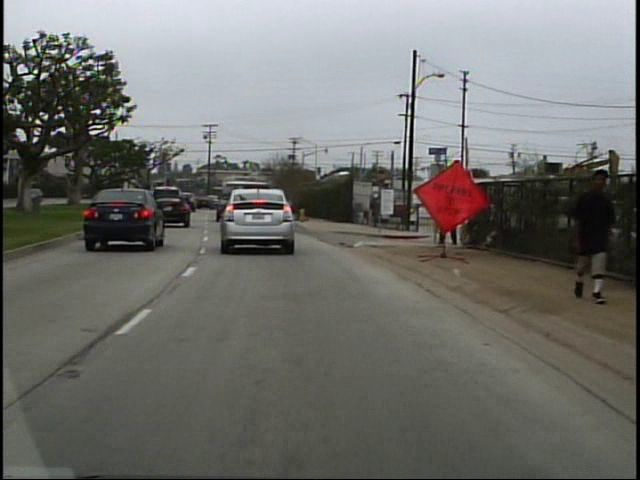person: (559, 161, 613, 308), (431, 183, 467, 249)
